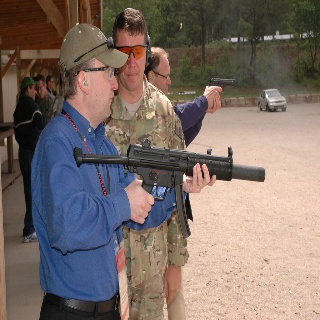rifle: (75, 136, 269, 222)
